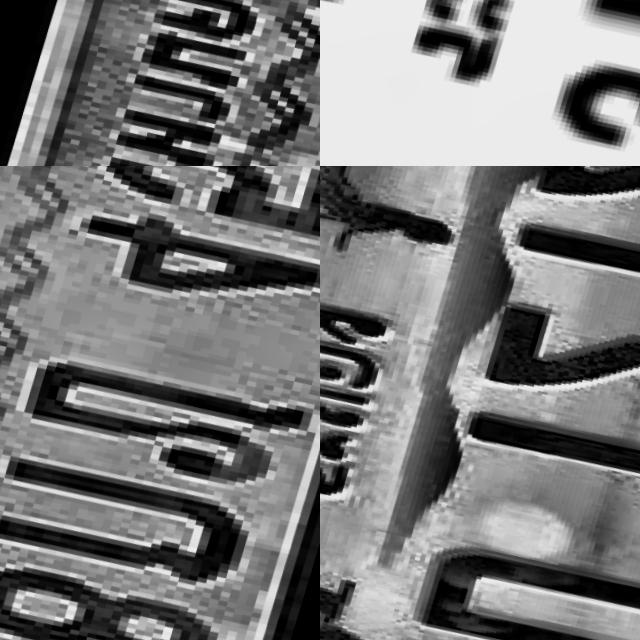license-plate: (0, 166, 320, 640), (320, 166, 640, 640), (0, 0, 320, 166), (320, 0, 640, 166)
